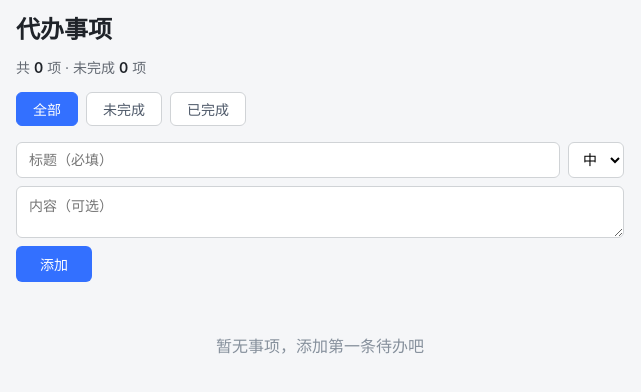
App 集成 › 新增事项后列表出现且统计更新
Type "买牛奶" into the field named "标题". click: (288,160)
box: x1=16 y1=142 x2=560 y2=178
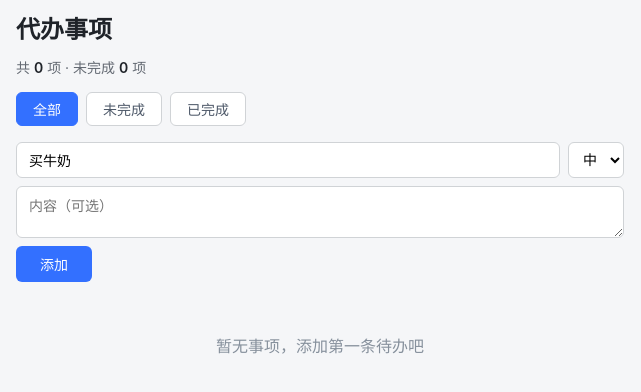
Type "记得打折" into the text box named "内容". click: (320,212)
box: x1=16 y1=186 x2=624 y2=238
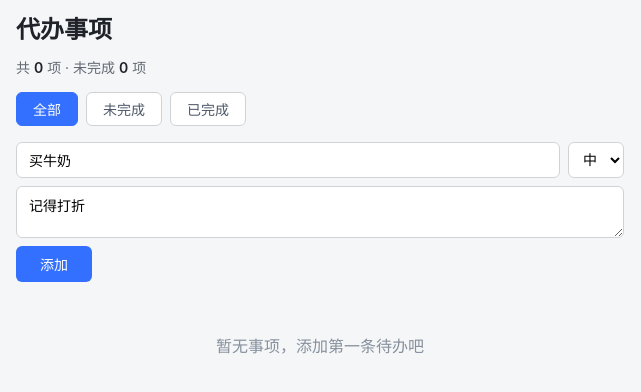
Submit the form, box x1=16 y1=142 x2=624 y2=282
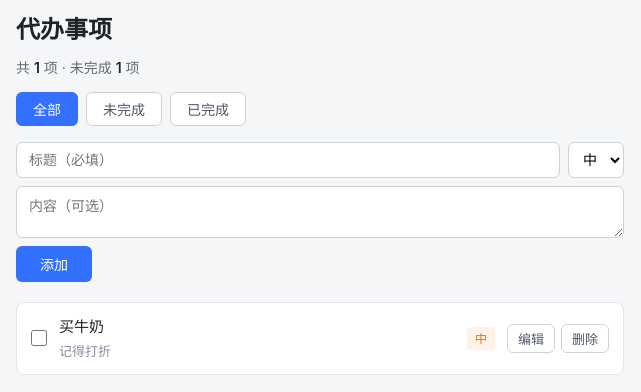
Check: the text "买牛奶" is shown, box x1=59 y1=317 x2=104 y2=336
Check: the text "记得打折" is shown, box x1=59 y1=343 x2=111 y2=359
Check: the text "共 1 项" is shown, box x1=16 y1=59 x2=140 y2=76
